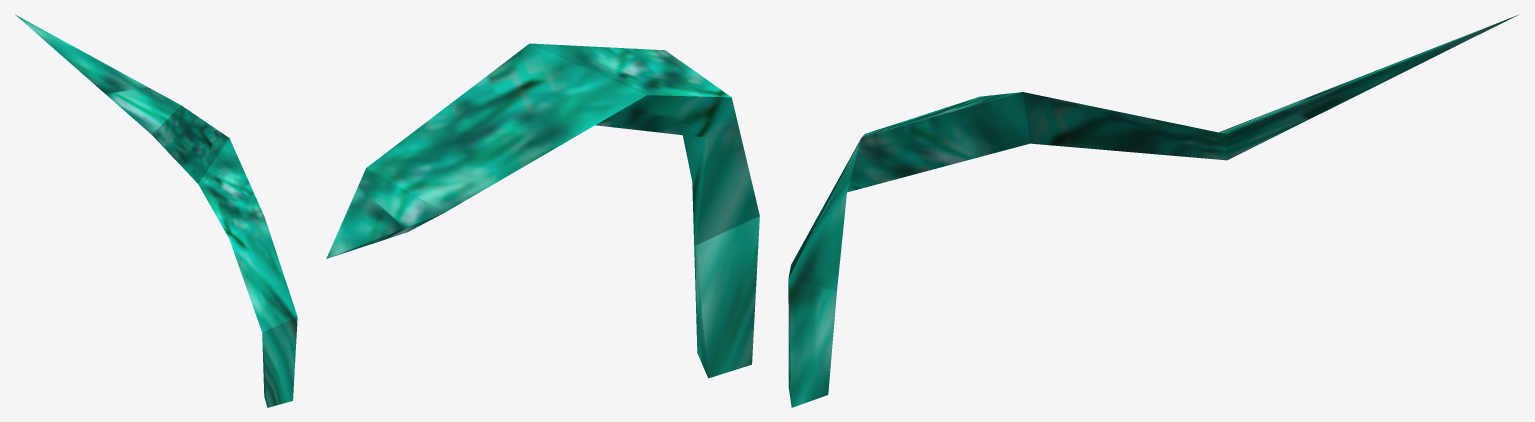
The model's file is H1_BluePlant_Branch_10.gltf.
3 renders of one model, left to right at view 1: azimuth 30°, elevation 25°; view 2: azimuth 150°, elevation 25°; view 3: azimuth 270°, elevation 25°, orthographic. The views are drawn at different scales.
Parts seen in each view (by area): view 1: H1_BluePlant_Branch_10; view 2: H1_BluePlant_Branch_10; view 3: H1_BluePlant_Branch_10.
Boxes of the visible parts, x1,y1,x2,y2 form: H1_BluePlant_Branch_10: (15, 14, 297, 407); H1_BluePlant_Branch_10: (326, 43, 759, 378); H1_BluePlant_Branch_10: (788, 14, 1518, 407).
Size of the model in its own units: 1.27 by 3.78 by 7.
1 material, 1 textured.
